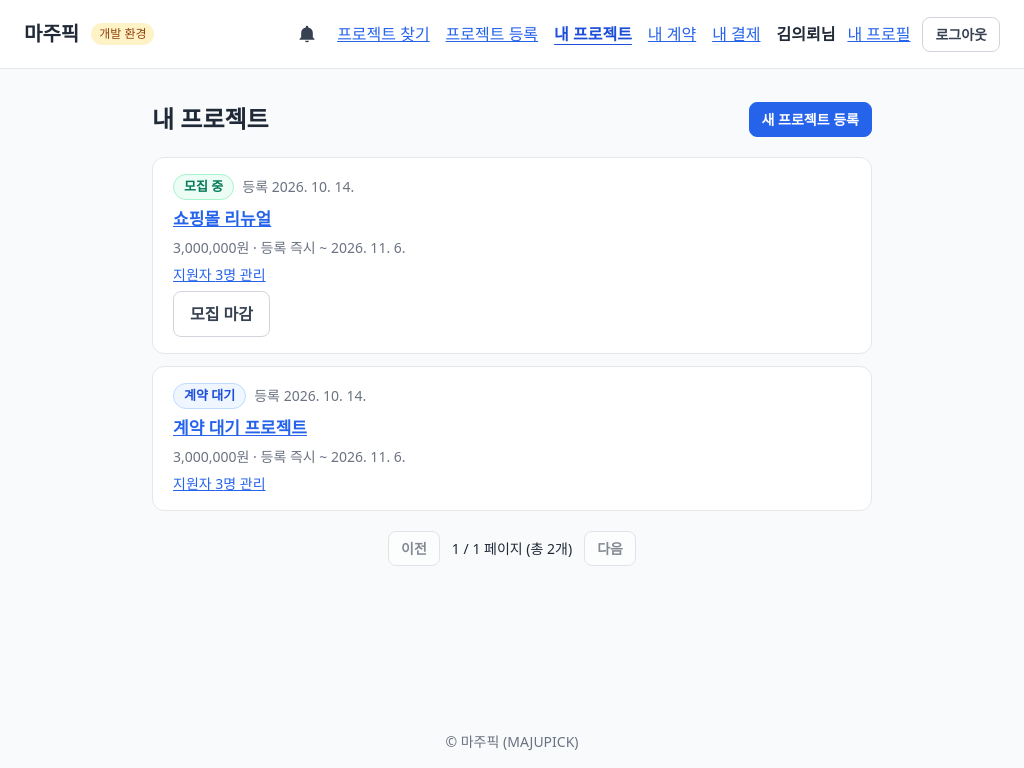
it: manual close (STAT-01) on my projects › shows the server reason when the close is refused and offers no button without CLOSE
The width and height of the screenshot is (1024, 768).
Click the button "모집 마감". click: {"x": 222, "y": 314}
box: 173,291 -> 270,337
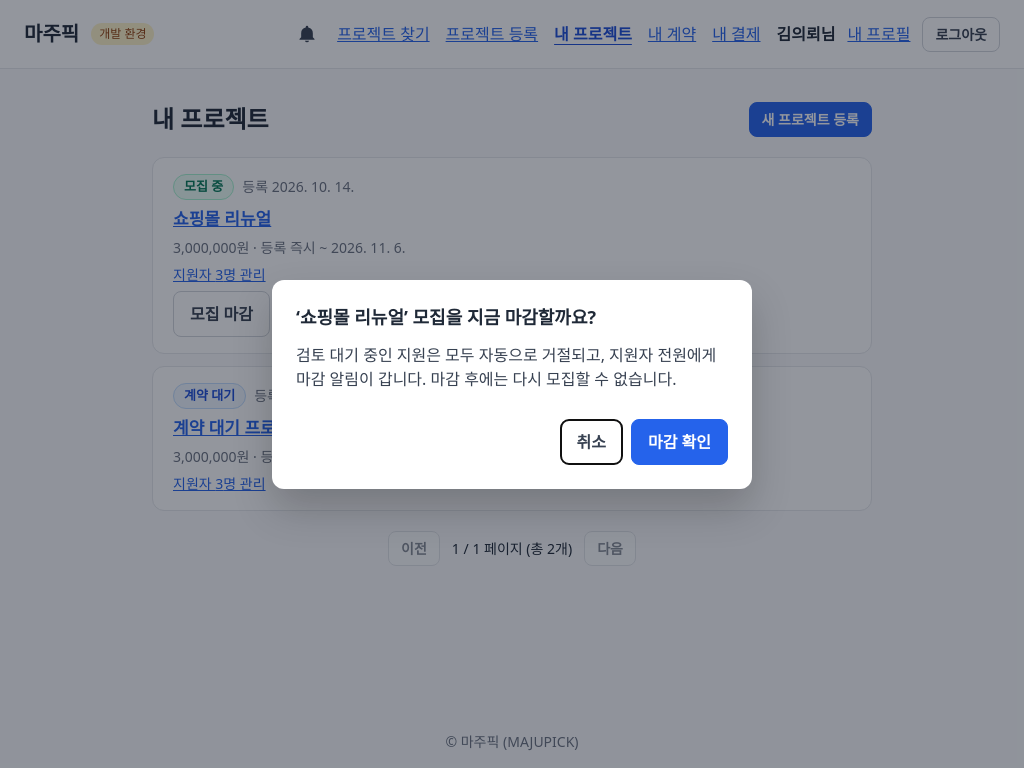
Click the button "마감 확인". click: {"x": 680, "y": 442}
box: 631,418 -> 728,464
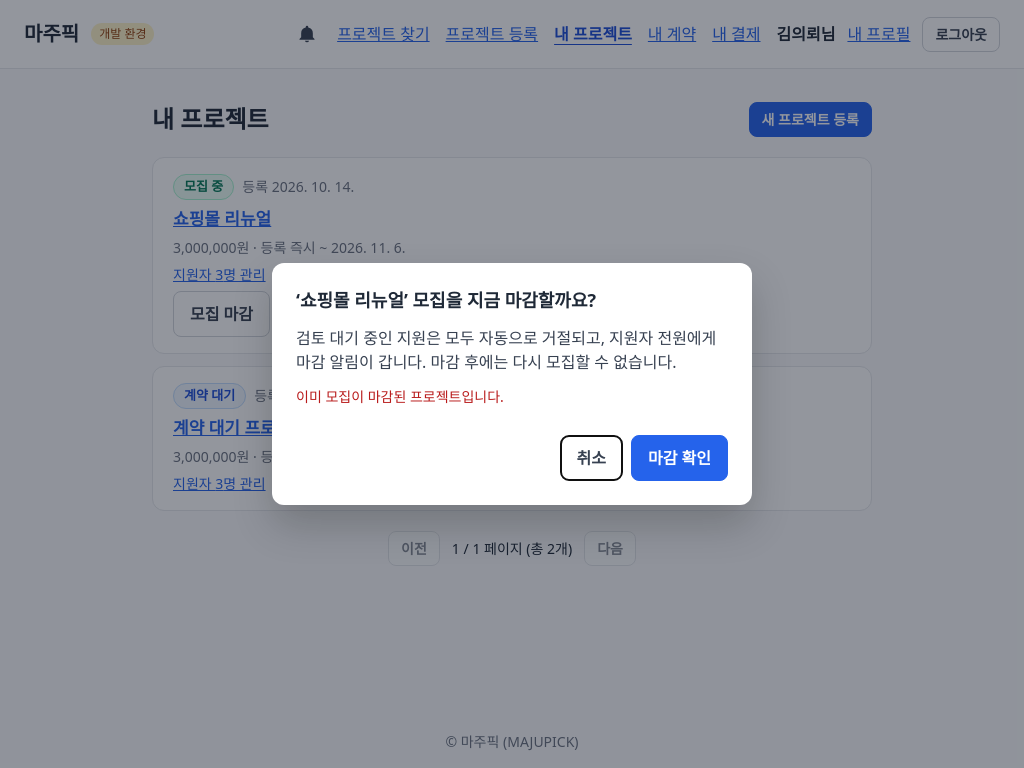
Now the text "이미 모집이 마감된 프로젝트입니다." is shown, box 296,387 -> 504,406
